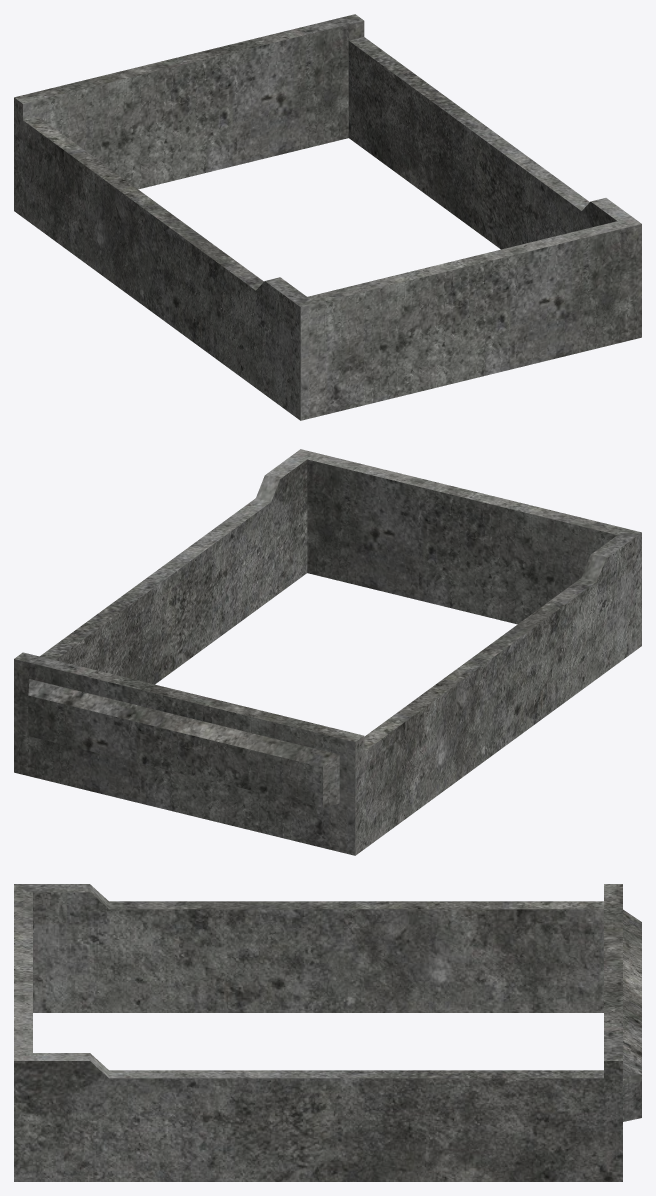
Rendered from moscow_window2.glb.
3 views of the same model, one above another, from view 1: azimuth 30°, elevation 25°; view 2: azimuth 150°, elevation 25°; view 3: azimuth 270°, elevation 25° (orthographic). The views are drawn at different scales.
Size of the model in its own units: 44 by 14 by 66.
1 material, 1 textured.
